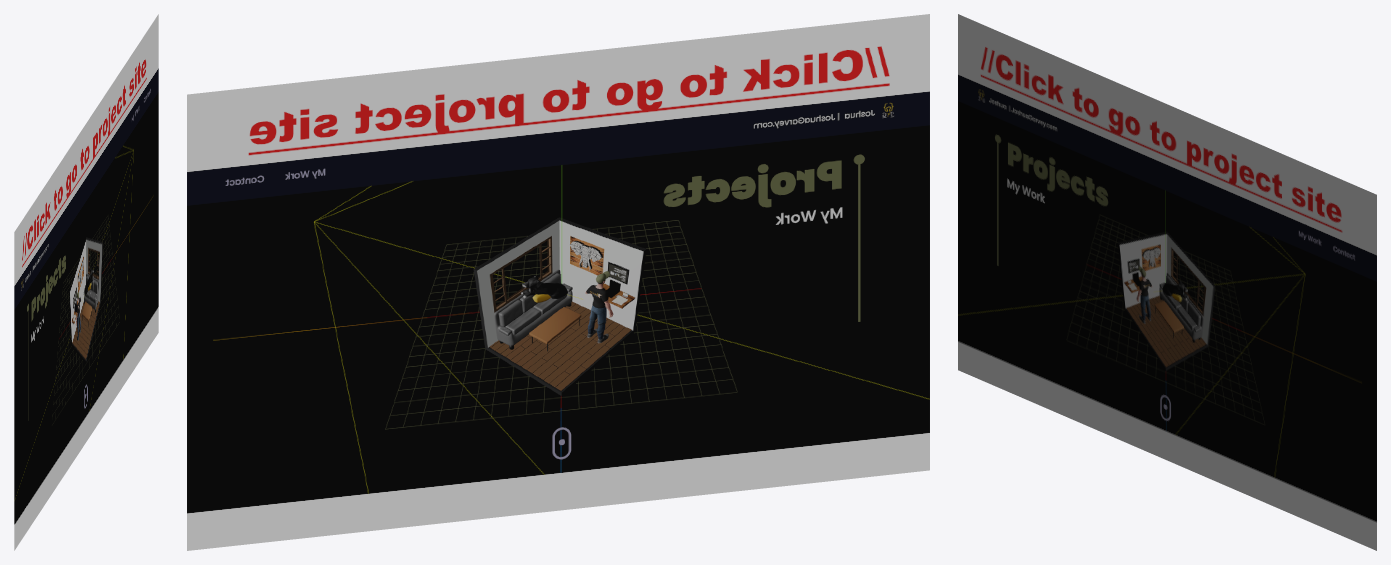
The model's file is projectscreen.glb.
3 renders of one model, left to right at view 1: azimuth 30°, elevation 25°; view 2: azimuth 150°, elevation 25°; view 3: azimuth 270°, elevation 25°, orthographic. The views are drawn at different scales.
Parts seen in each view (by area): view 1: screentoblender; view 2: screentoblender; view 3: screentoblender.
Part boxes in pixels (x1=…): screentoblender: x1=14, y1=14, x2=158, y2=550; screentoblender: x1=187, y1=14, x2=929, y2=550; screentoblender: x1=958, y1=14, x2=1376, y2=550.
Bounding box in the file's own units: 1.56 × 1.44 × 1.53.
1 material, 1 textured.
